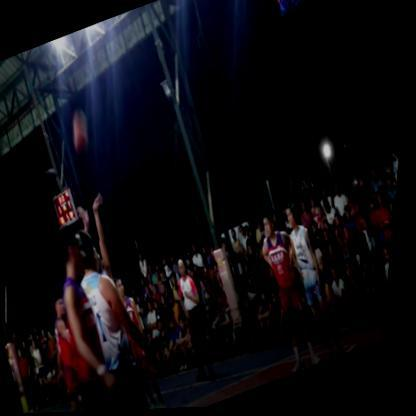basketball: (64, 110, 102, 161)
rim: (250, 0, 314, 27)
